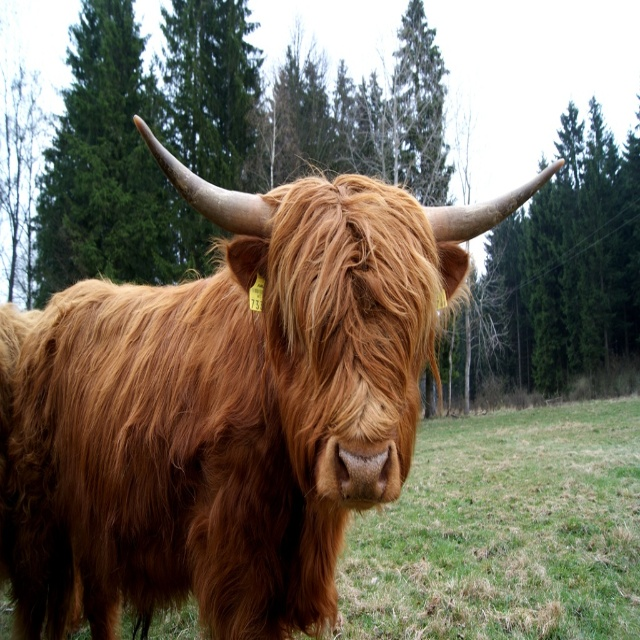Bull: (0, 115, 565, 640)
